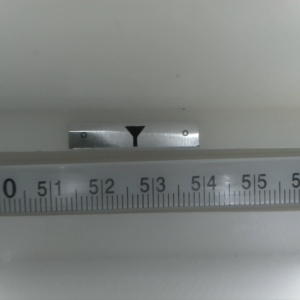0: (2, 178, 16, 198)
1: (54, 181, 60, 196)
2: (104, 178, 114, 194)
4: (207, 176, 217, 190)
5: (36, 181, 47, 196), (151, 177, 162, 192), (291, 172, 300, 189), (190, 176, 200, 191), (256, 174, 266, 189), (241, 174, 250, 190), (139, 177, 148, 193), (88, 179, 97, 194)
finger: (123, 126, 145, 149)
